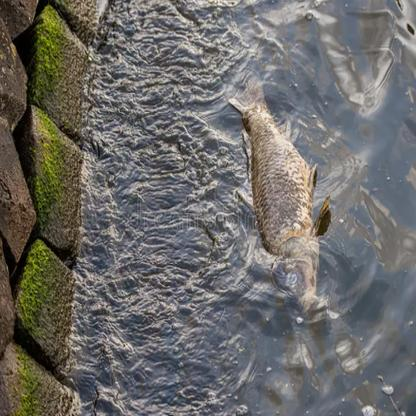deceased fish: (232, 77, 333, 308)
